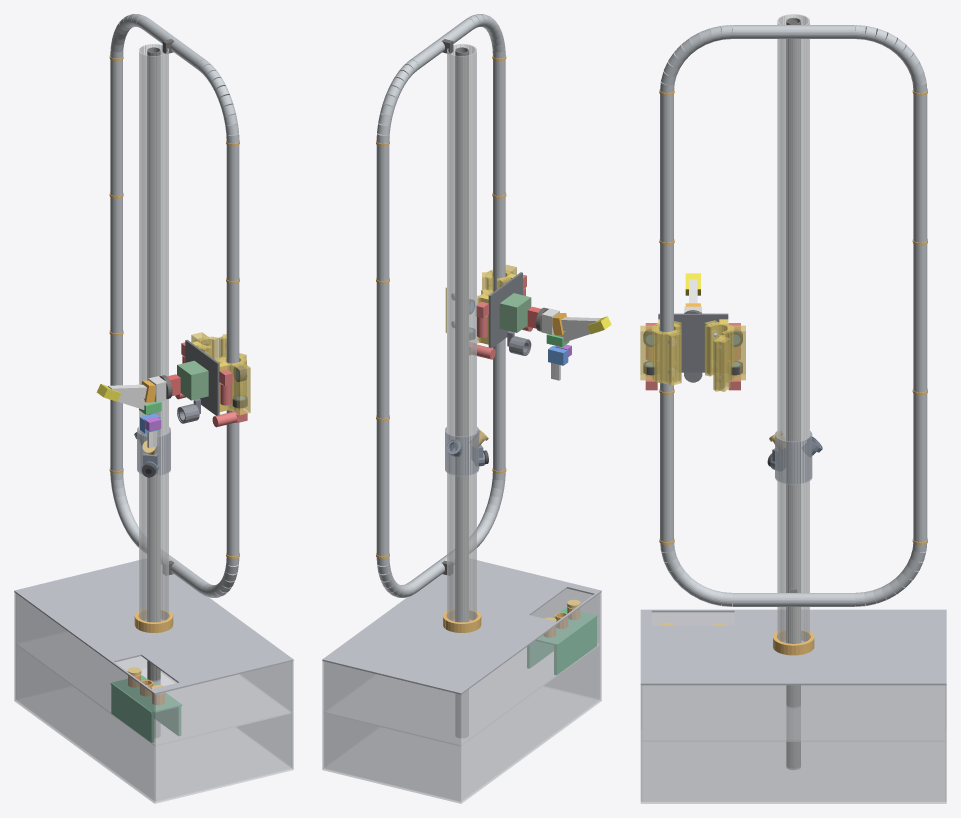
The model's file is transplant-seedling-step4-seat-v7.glb.
3 renders of one model, left to right at view 1: azimuth 30°, elevation 25°; view 2: azimuth 150°, elevation 25°; view 3: azimuth 270°, elevation 25°, orthographic. The views are drawn at different scales.
Size of the model in its own units: 0.4877 by 1.9 by 0.701.
